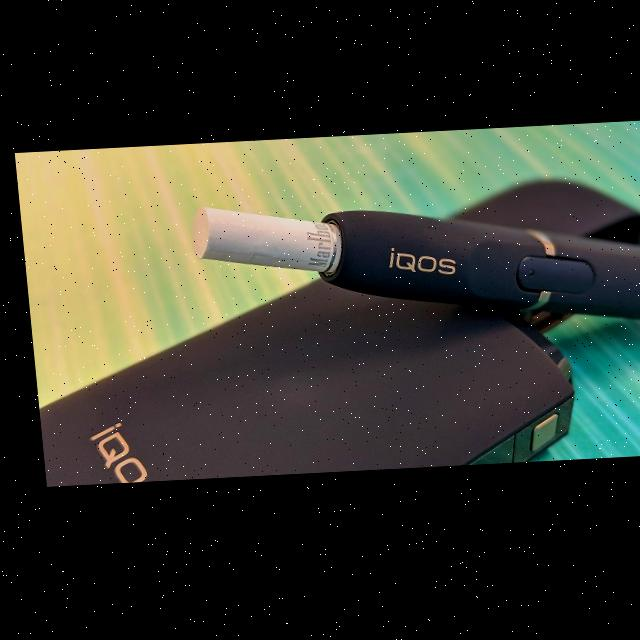vape: (16, 181, 640, 487), (184, 190, 640, 347)
